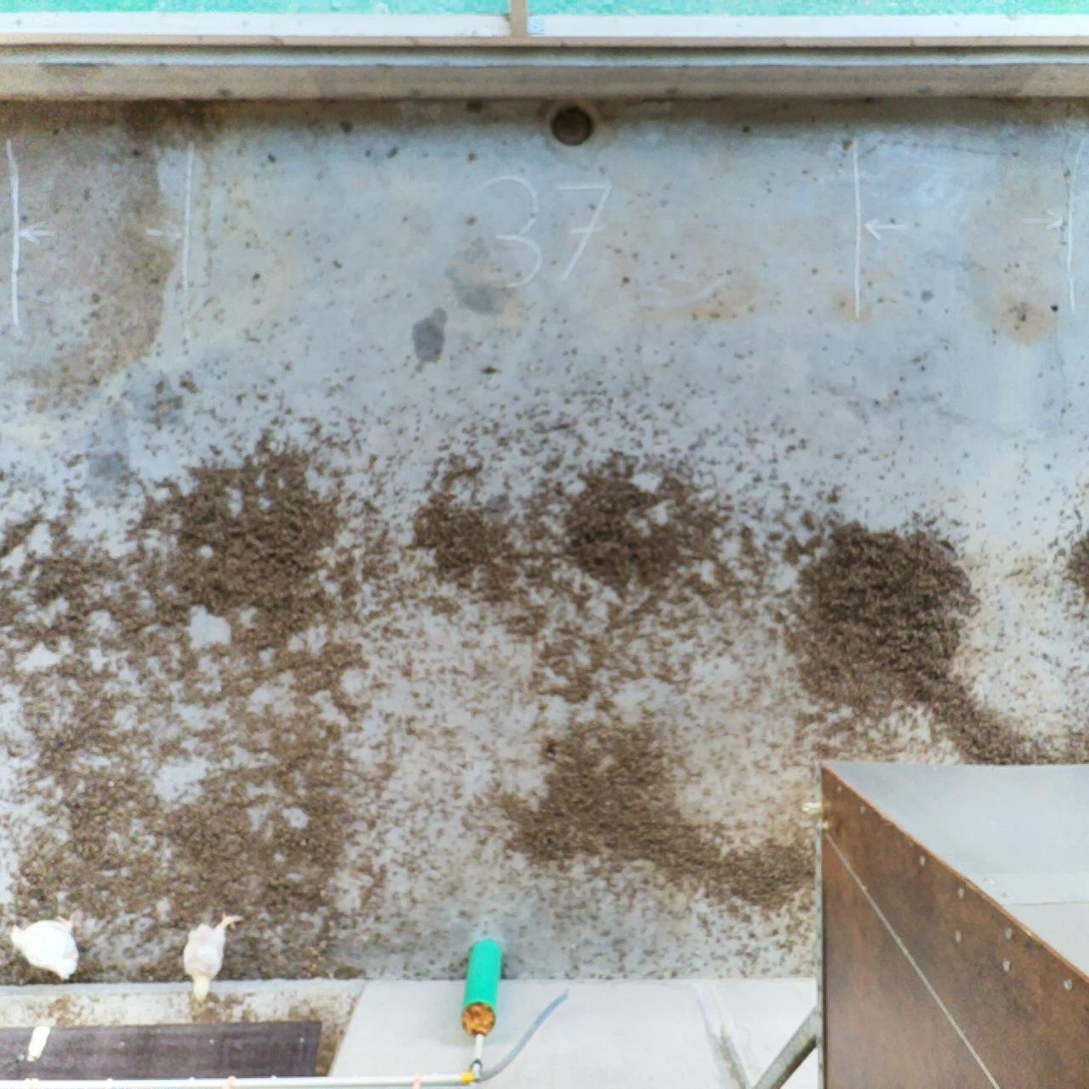chicken: (181, 907, 244, 1004), (4, 914, 81, 983)
